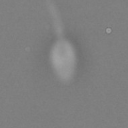normal: (41, 1, 73, 37)
